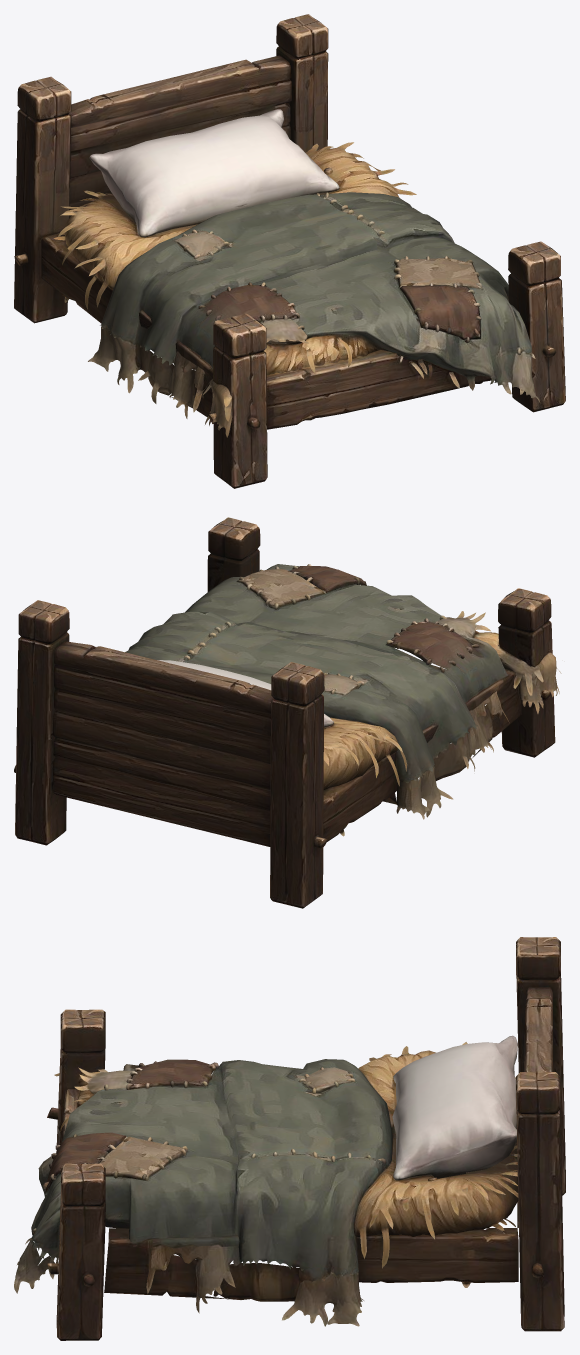
Rendered from act1-a18-2-bed-clean-pillow.glb.
3 renders of one model, top to bottom at view 1: azimuth 30°, elevation 25°; view 2: azimuth 150°, elevation 25°; view 3: azimuth 270°, elevation 25°, orthographic. The views are drawn at different scales.
Visible parts, largest first — view 1: act1-a18-2-bed-clean-pillow; view 2: act1-a18-2-bed-clean-pillow; view 3: act1-a18-2-bed-clean-pillow.
Boxes of the visible parts, left/top/right/bottom form: act1-a18-2-bed-clean-pillow: left=14, top=14, right=565, bottom=488; act1-a18-2-bed-clean-pillow: left=14, top=517, right=561, bottom=908; act1-a18-2-bed-clean-pillow: left=14, top=937, right=565, bottom=1340.
Size of the model in its own units: 1.57 by 0.9819 by 2.
1 material, 1 textured.
